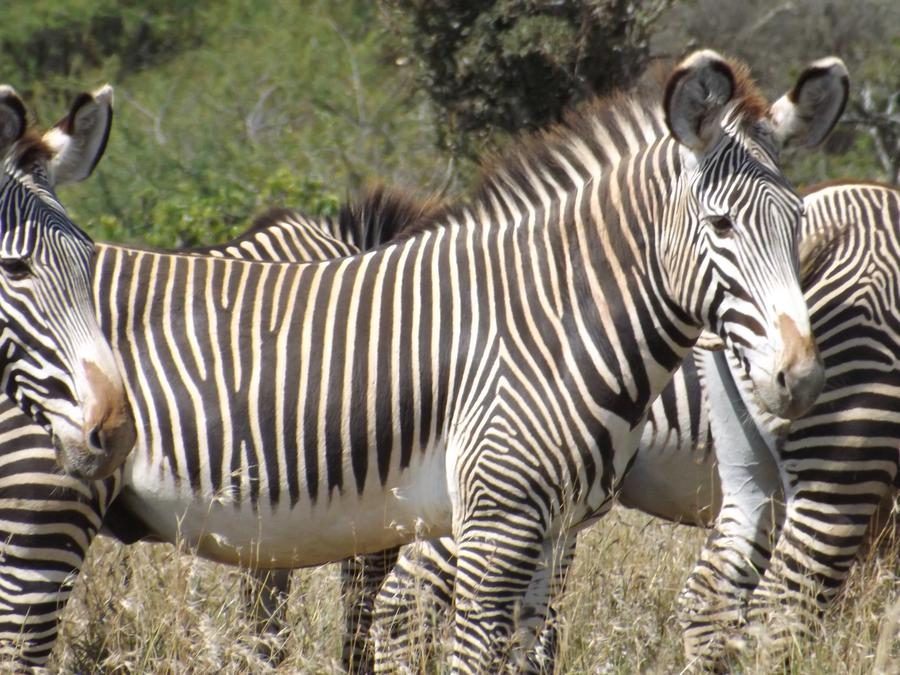zebra_grevys: (102, 218, 582, 524)
